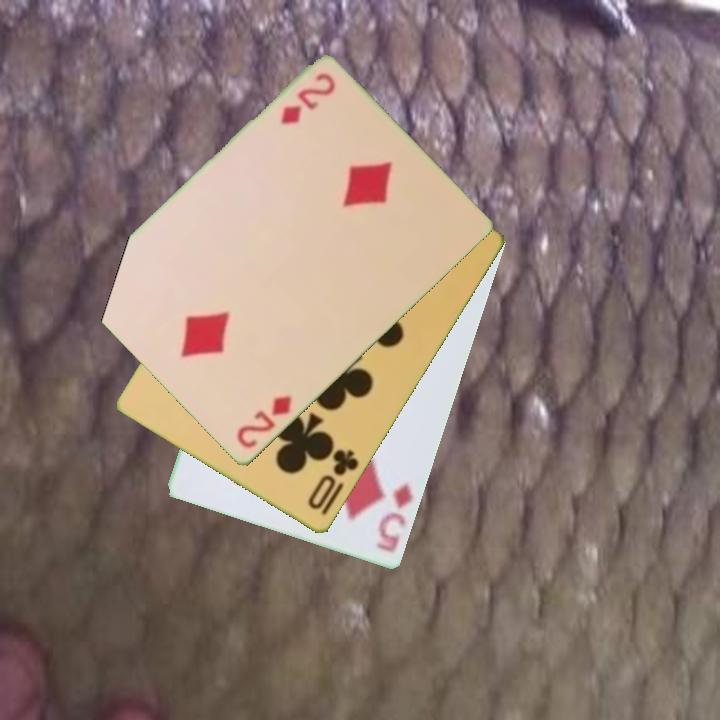10c: (304, 446, 362, 513)
2d: (233, 393, 295, 452), (276, 69, 338, 128)
5d: (372, 480, 417, 556)
